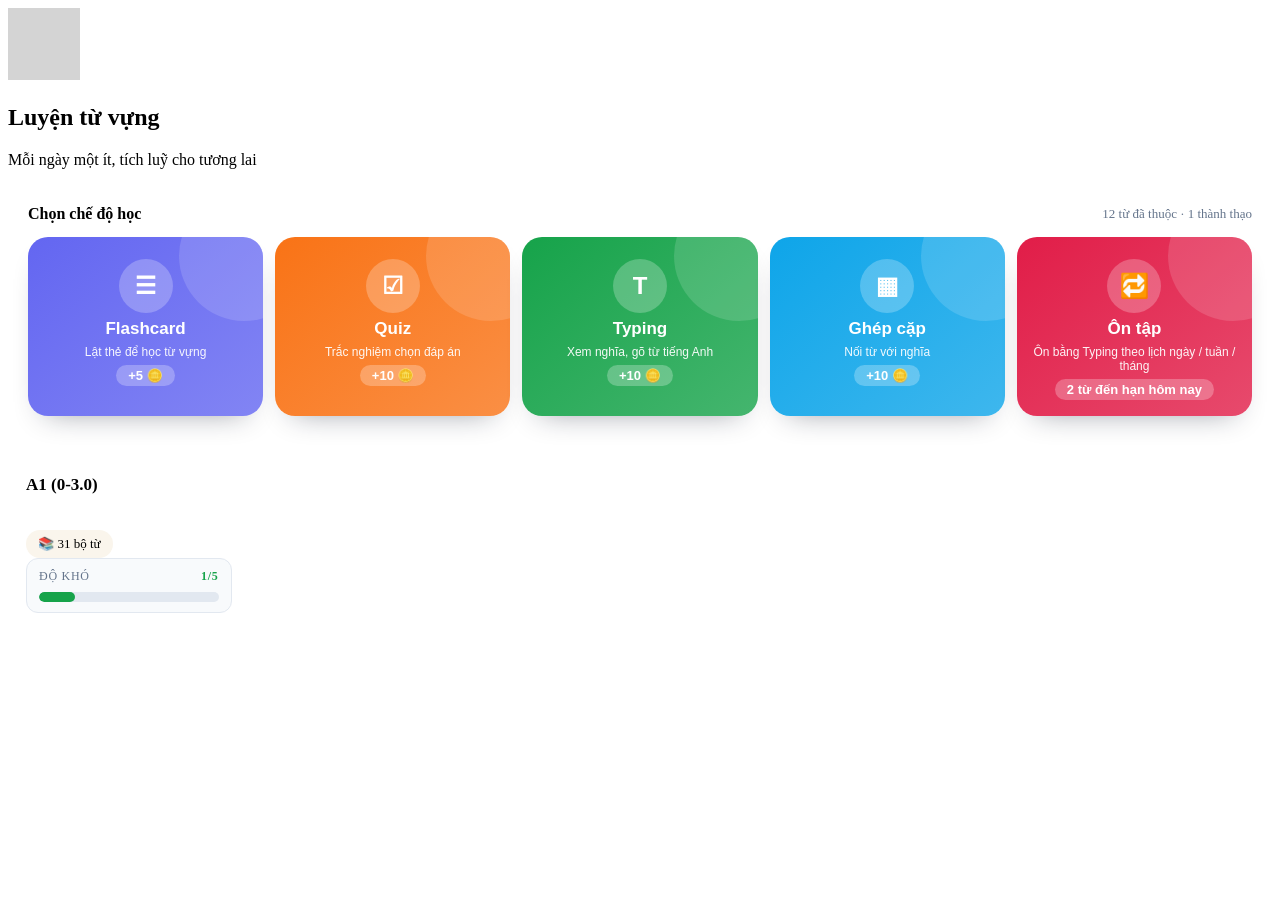
Test: vocab review › giu du 4 card game va them card on tap
Expected: the button named "Ôn tập bằng Flashcard" is shown, [28, 237, 263, 416]
Expected: the button named "Ôn tập bằng Quiz" is shown, [275, 237, 510, 416]
Click the button named "Ôn tập từ vựng" at point(1134, 326), box [1017, 237, 1252, 416]
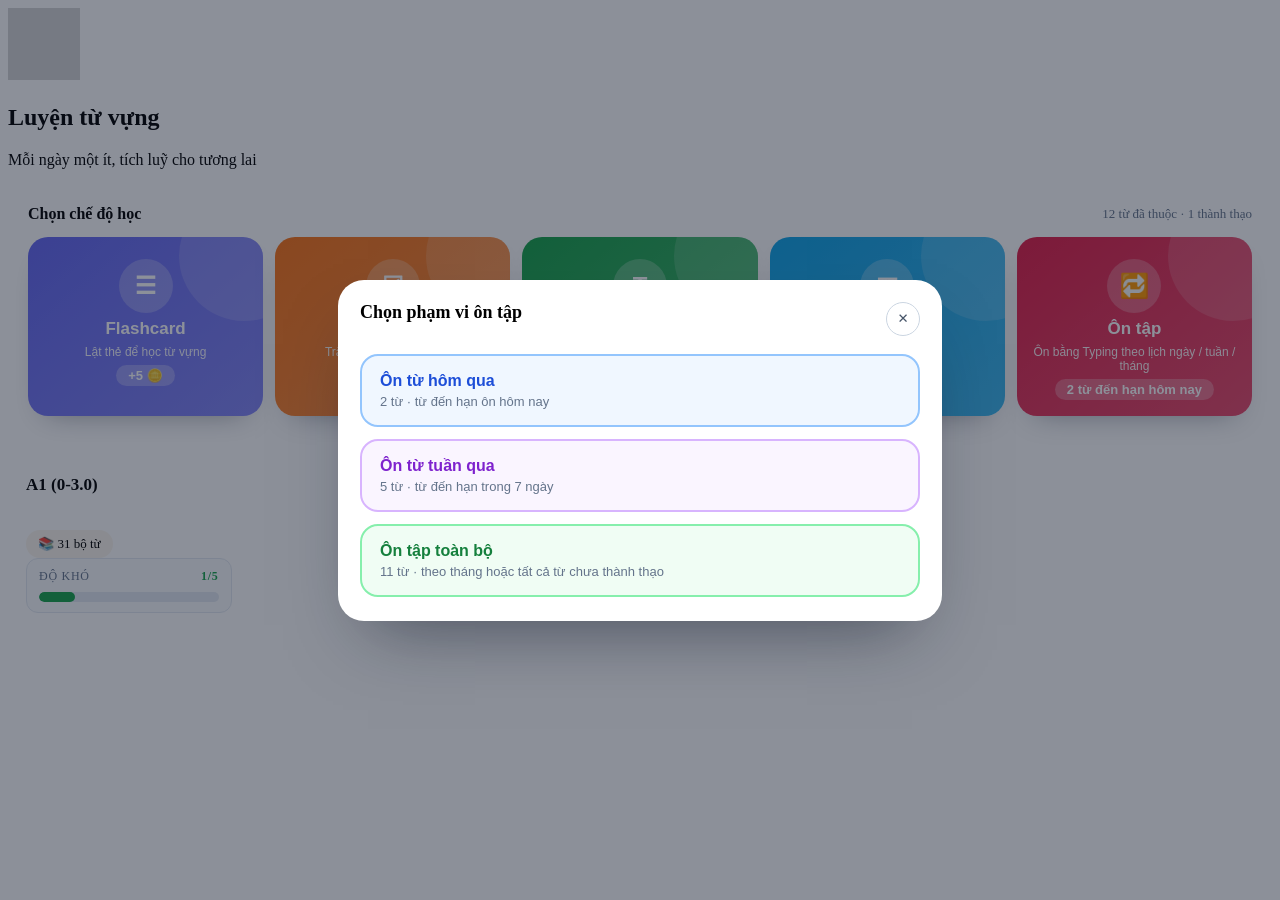
Now the heading "Chọn phạm vi ôn tập" is shown, box [360, 302, 522, 322]
Now the text "Ôn từ hôm qua" is shown, box [380, 372, 495, 388]
Now the text "Ôn từ tuần qua" is shown, box [380, 456, 495, 474]
